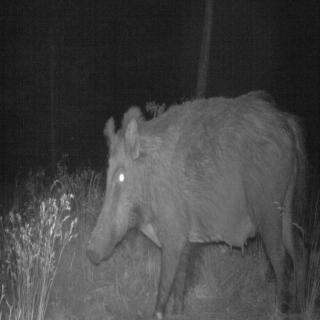Pig: (73, 60, 320, 283)
